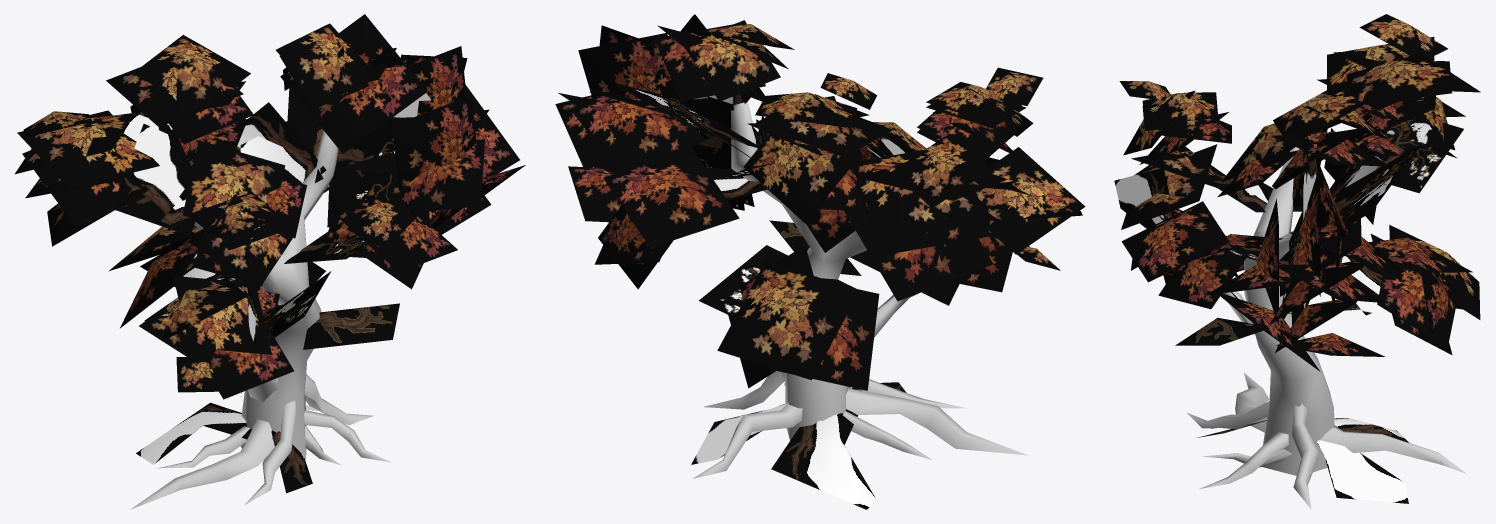
Rendered from 2_Plant_Fengshu_01.FBX.
The picture shows the model from 3 angles, left to right: view 1: azimuth 30°, elevation 25°; view 2: azimuth 150°, elevation 25°; view 3: azimuth 270°, elevation 25°; orthographic projection. The views are drawn at different scales.
Parts seen in each view (by area): view 1: 2_Plant_Fengshu_01_03, 2_Plant_Fengshu_01_01, 2_Plant_Fengshu_01_02, 2_Plant_Fengshu_01_04; view 2: 2_Plant_Fengshu_01_03, 2_Plant_Fengshu_01_01, 2_Plant_Fengshu_01_02, 2_Plant_Fengshu_01_04; view 3: 2_Plant_Fengshu_01_03, 2_Plant_Fengshu_01_01, 2_Plant_Fengshu_01_04, 2_Plant_Fengshu_01_02.
Part boxes in pixels (x1=…): 2_Plant_Fengshu_01_03: x1=106, y1=14, x2=457, y2=328; 2_Plant_Fengshu_01_01: x1=115, y1=47, x2=431, y2=509; 2_Plant_Fengshu_01_02: x1=15, y1=110, x2=331, y2=399; 2_Plant_Fengshu_01_04: x1=327, y1=46, x2=525, y2=234; 2_Plant_Fengshu_01_03: x1=594, y1=20, x2=1043, y2=390; 2_Plant_Fengshu_01_01: x1=680, y1=14, x2=1028, y2=509; 2_Plant_Fengshu_01_02: x1=844, y1=133, x2=1085, y2=305; 2_Plant_Fengshu_01_04: x1=555, y1=25, x2=754, y2=222; 2_Plant_Fengshu_01_03: x1=1119, y1=52, x2=1480, y2=355; 2_Plant_Fengshu_01_01: x1=1114, y1=135, x2=1466, y2=509; 2_Plant_Fengshu_01_04: x1=1205, y1=162, x2=1406, y2=371; 2_Plant_Fengshu_01_02: x1=1121, y1=14, x2=1480, y2=298.
Bounding box in the file's own units: 1219 × 1056 × 846.
